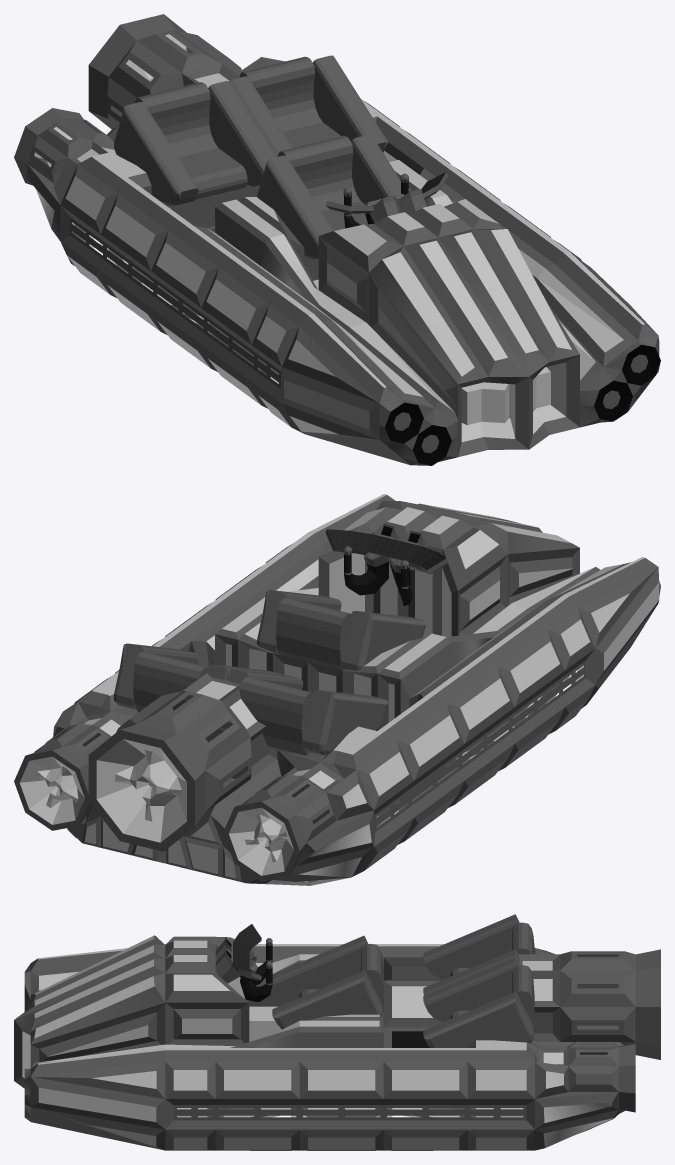
3 renders of one model, top to bottom at view 1: azimuth 30°, elevation 25°; view 2: azimuth 150°, elevation 25°; view 3: azimuth 270°, elevation 25°, orthographic. The views are drawn at different scales.
Parts seen in each view (by area): view 1: LS-100; view 2: LS-100; view 3: LS-100.
Boxes of the visible parts, left/top/right/bottom form: LS-100: left=14, top=14, right=660, bottom=465; LS-100: left=14, top=494, right=660, bottom=885; LS-100: left=14, top=914, right=660, bottom=1150.
Size of the model in its own units: 5.52 by 11.55 by 3.32.
